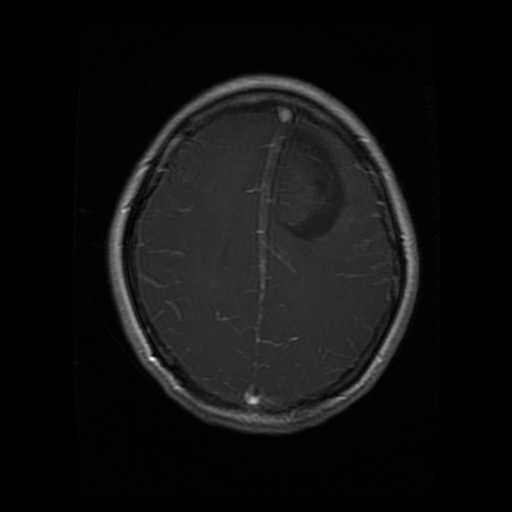glioma: (261, 123, 345, 242)
